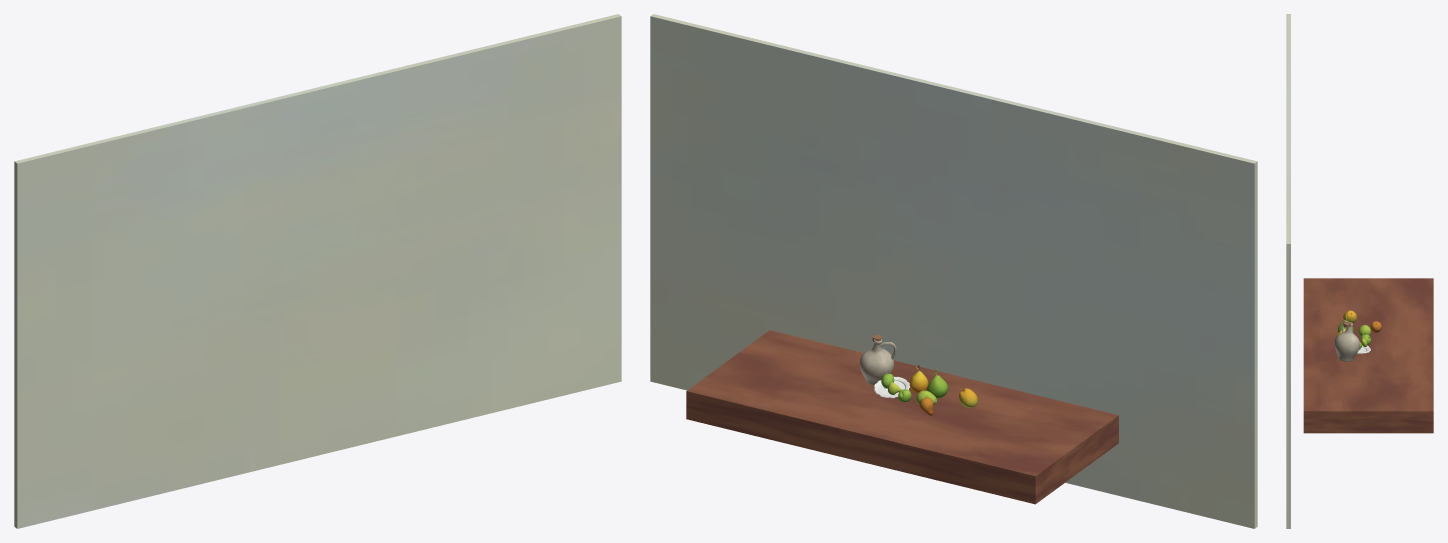
Rendered from viga.glb.
3 views of the same model, side by side, from view 1: azimuth 30°, elevation 25°; view 2: azimuth 150°, elevation 25°; view 3: azimuth 270°, elevation 25° (orthographic). The views are drawn at different scales.
Visible parts, largest first — view 1: BackdropWall; view 2: BackdropWall, TableExtension, ceramic_jug_mesh; view 3: TableExtension, BackdropWall, ceramic_jug_mesh.
Part boxes in pixels (box(x1,y1,x2,y2)): BackdropWall: box(14, 14, 621, 528); BackdropWall: box(650, 14, 1257, 528); TableExtension: box(686, 330, 1118, 504); ceramic_jug_mesh: box(859, 339, 896, 385); TableExtension: box(1303, 278, 1433, 433); BackdropWall: box(1286, 14, 1290, 528); ceramic_jug_mesh: box(1334, 320, 1359, 361).
Size of the model in its own units: 9 by 5.2 by 2.44.
Materials: 15 (12 with a texture image).
